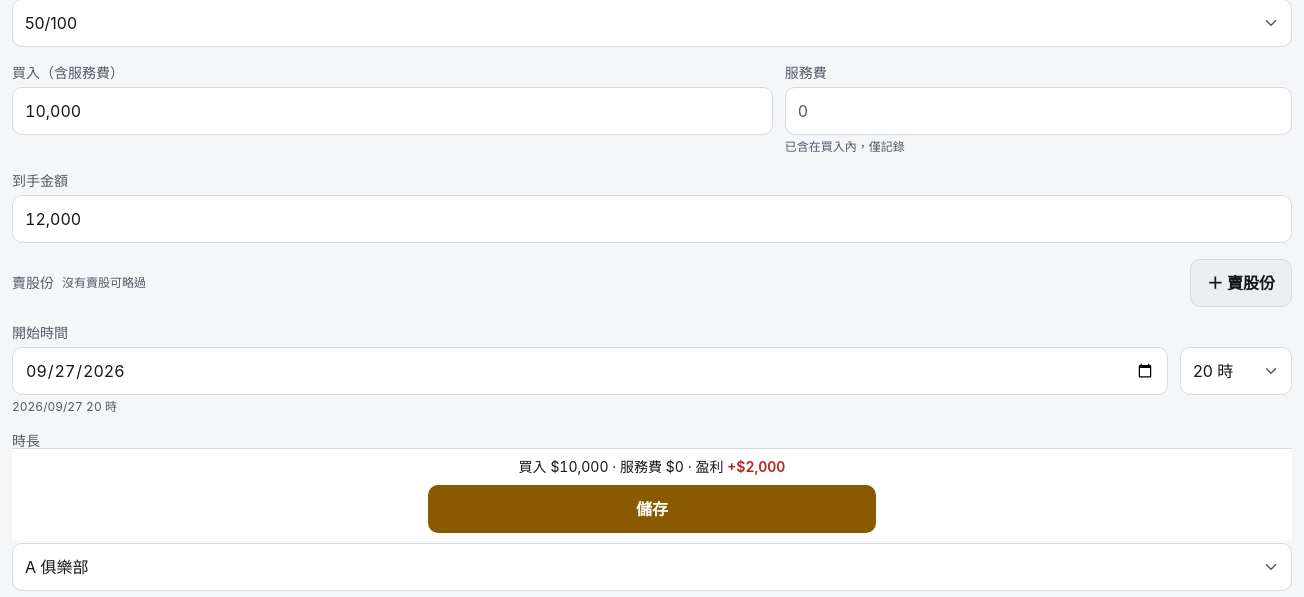
Test: 5.7 編輯模式 › 開始時間不可是未來的規則同樣適用
Select "21 時" in the dropdown named "開始小時". click: (1236, 371)
box: left=1180, top=347, right=1292, bottom=395
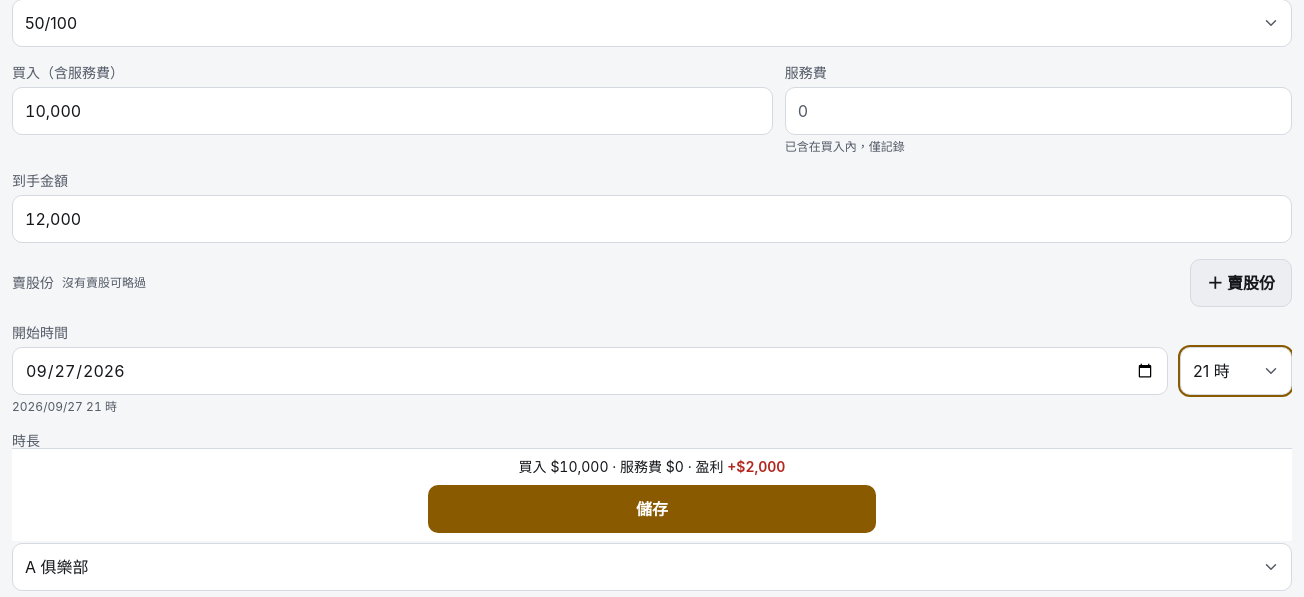
Note: 改到明天（現在 2026-09-28 20:30）
Type "2026-09-29" into the date field named "開始日期". click: (590, 371)
box: left=12, top=347, right=1168, bottom=395
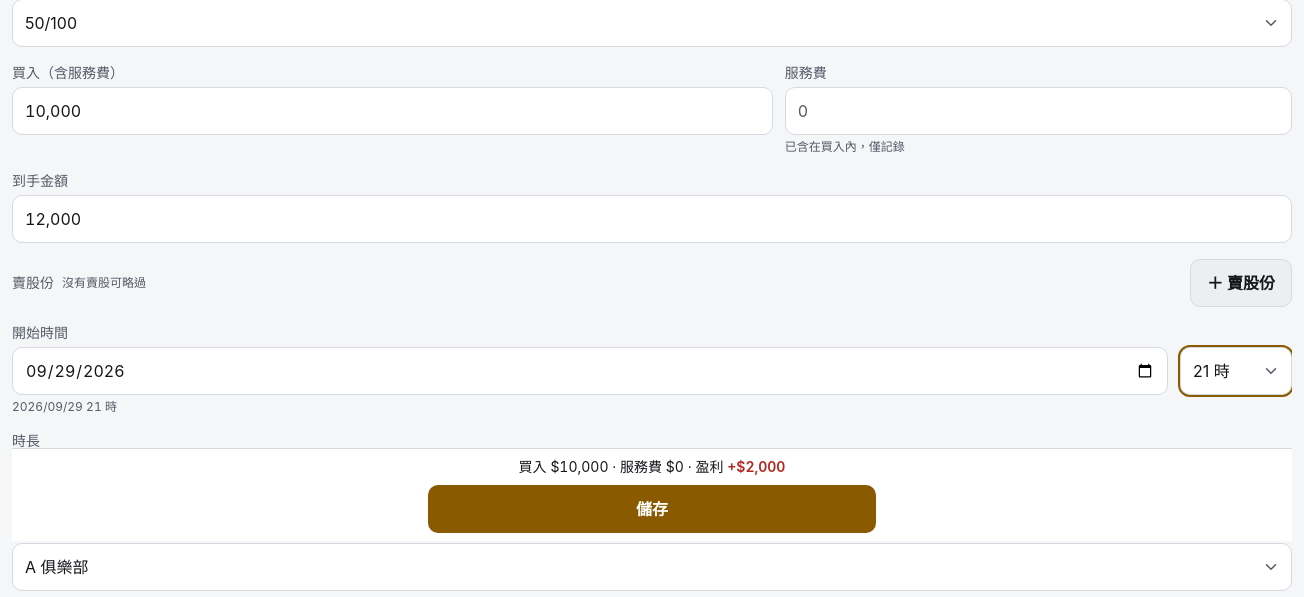
Click the button "儲存". click: click(652, 509)
box: left=428, top=485, right=876, bottom=533
(page scrolled)
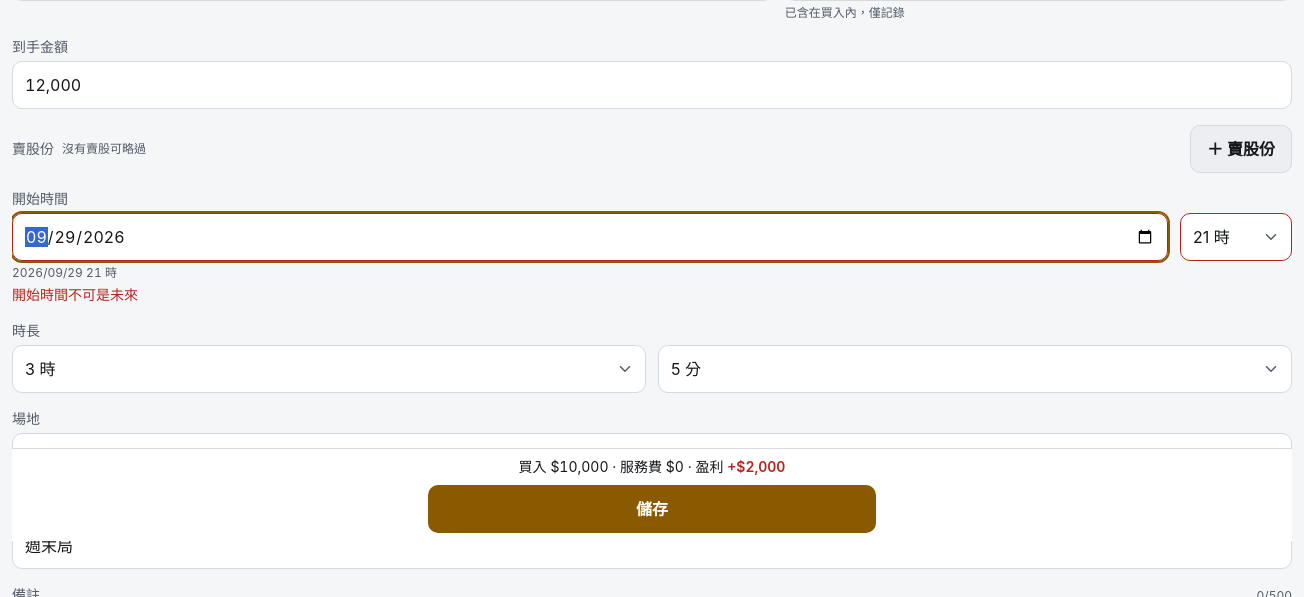
expect the text "開始時間不可是未來" is shown: met, box left=12, top=286, right=138, bottom=303
